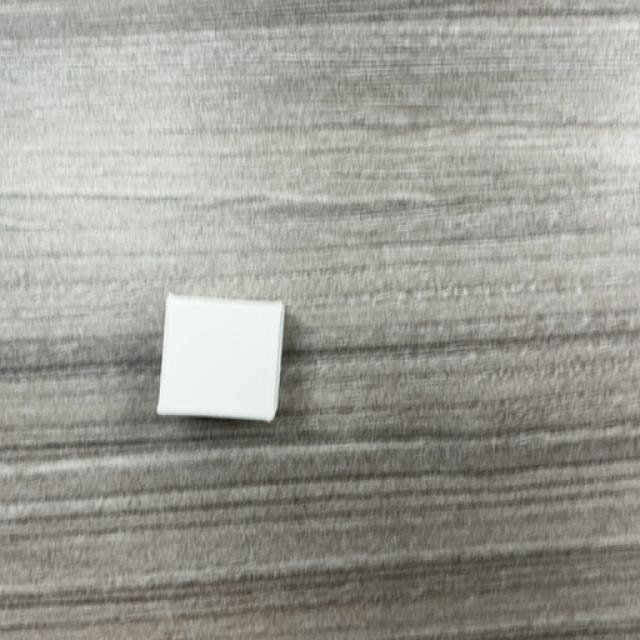Blanco: (156, 295, 285, 425)
